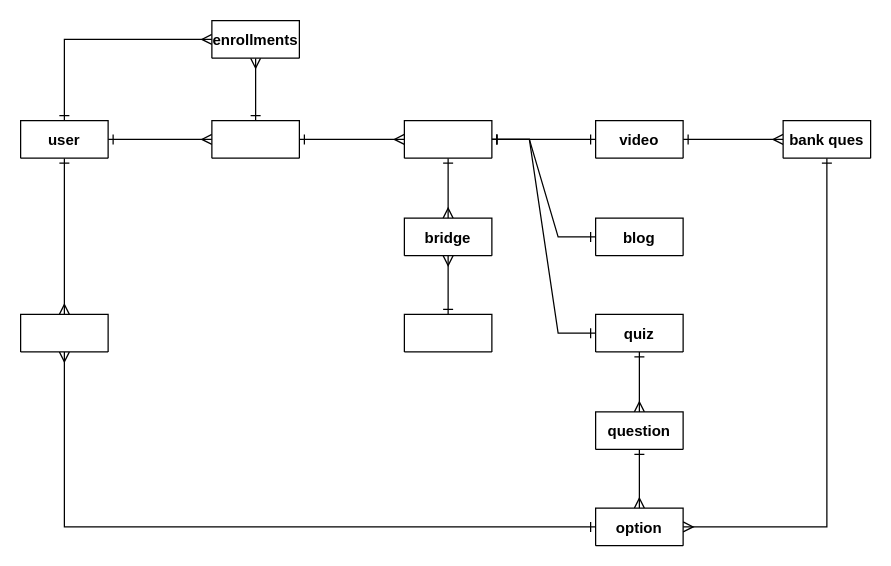
This 891x566 diagram has some shape labels left out. The shapes that lost their labels are listed below. From the top down, each one's box as (x1, y1, x2, y2) in pixels, then its label:
(211, 119, 299, 158): course
(403, 119, 492, 158): lesson
(19, 313, 108, 352): choice
(403, 313, 492, 352): tag
